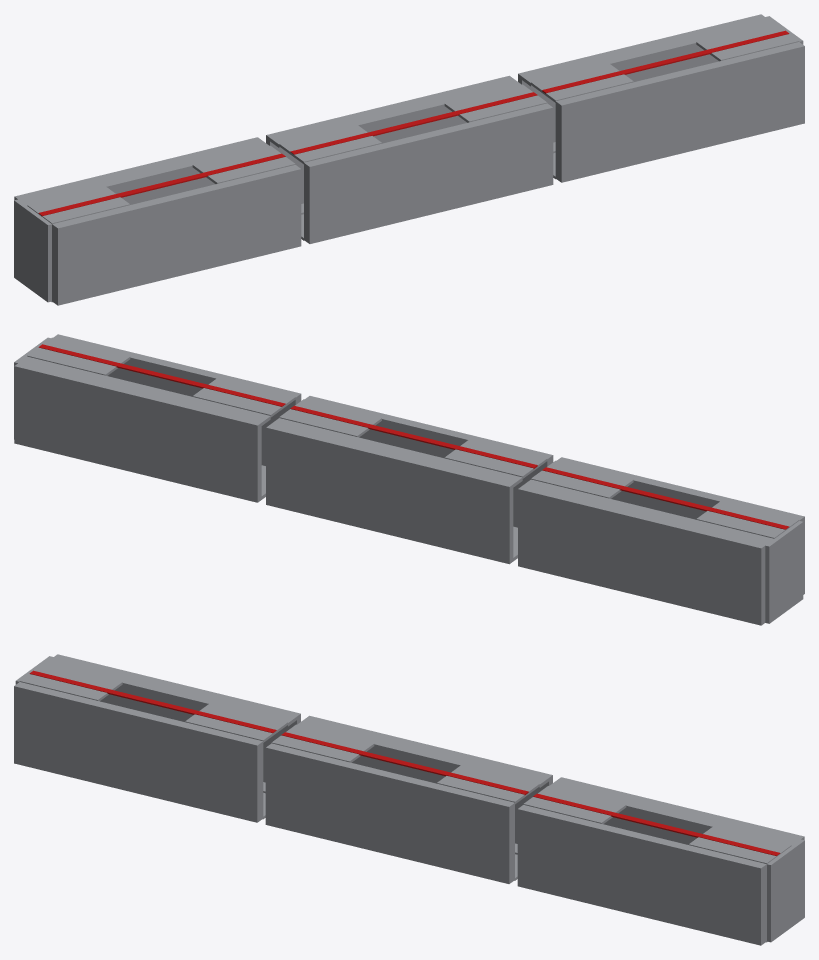
Rendered from metro_train_red_open.obj.
The picture shows the model from 3 angles, top to bottom: view 1: azimuth 30°, elevation 25°; view 2: azimuth 150°, elevation 25°; view 3: azimuth 330°, elevation 25°; orthographic projection.
Visible parts, largest first — view 1: metro_train_red_open; view 2: metro_train_red_open; view 3: metro_train_red_open.
Boxes of the visible parts, bbox=[...] form: metro_train_red_open: bbox=[14, 14, 804, 305]; metro_train_red_open: bbox=[14, 334, 804, 625]; metro_train_red_open: bbox=[14, 654, 804, 945].
Bounding box in the file's own units: 9 × 0.91 × 0.9.
